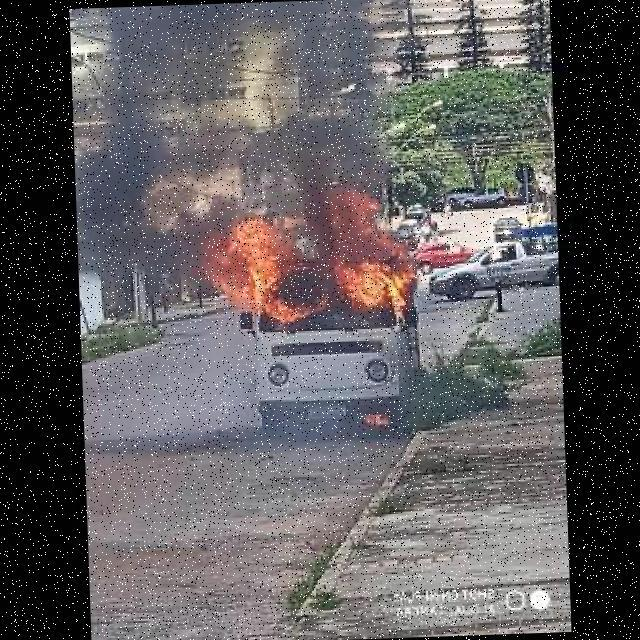Fire: (200, 210, 324, 322), (333, 183, 412, 318), (364, 414, 388, 425)
Smoke: (72, 98, 213, 297), (294, 129, 370, 261)
